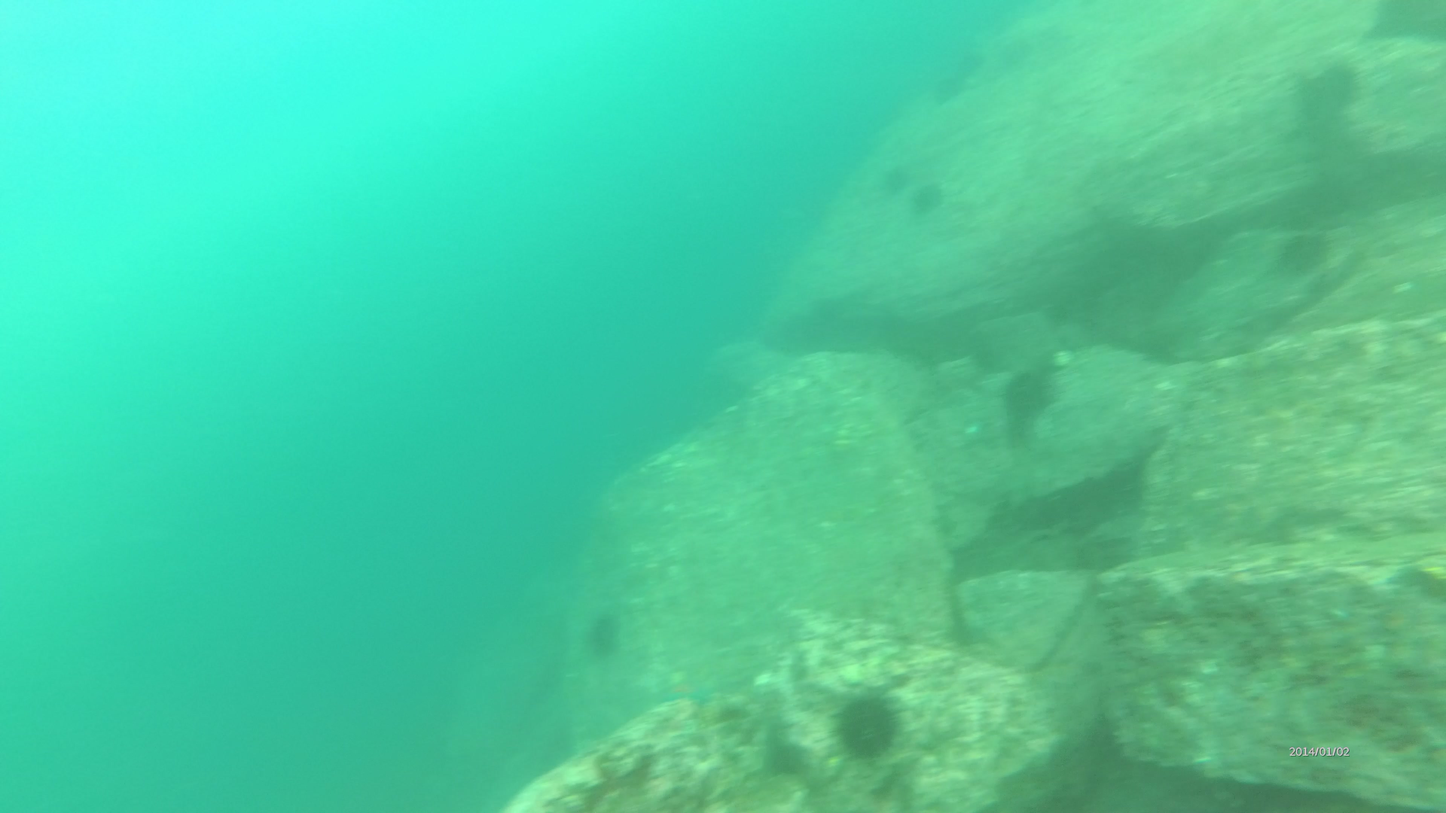starfish: (836, 687, 901, 762), (1309, 59, 1365, 114), (1008, 365, 1060, 415), (1282, 228, 1332, 275), (589, 608, 625, 654), (912, 180, 944, 217), (884, 161, 917, 191)
